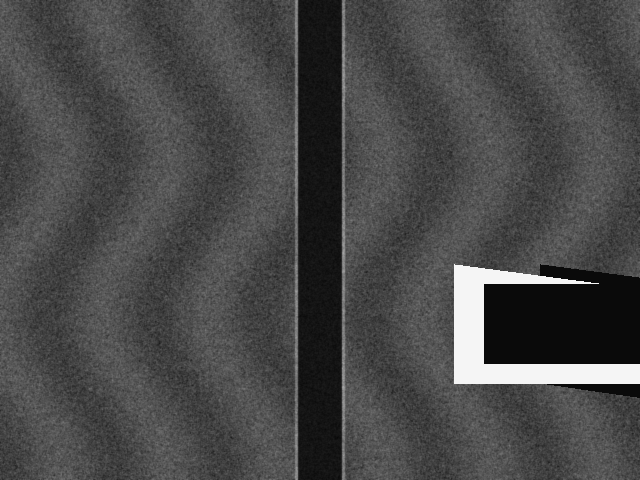Ship/Boat Debris: (454, 264, 640, 383)
